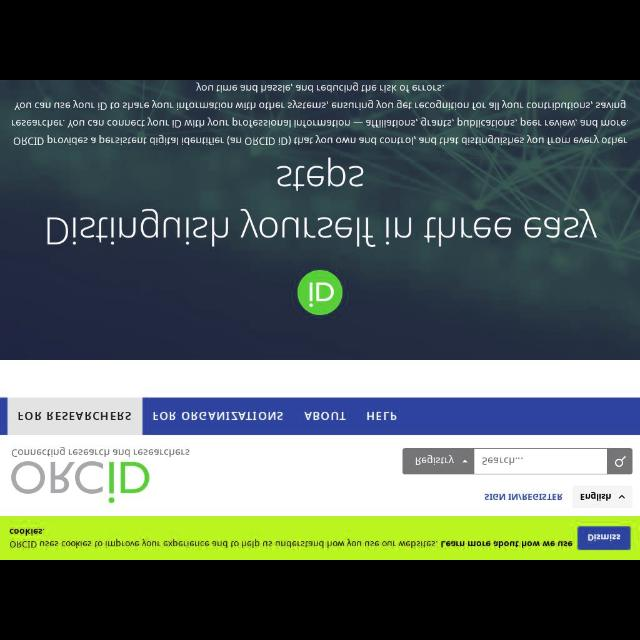backgroundimage: (1, 81, 638, 359)
icon: (613, 454, 627, 470), (618, 494, 626, 502), (461, 458, 469, 464)
image: (12, 460, 156, 506), (298, 268, 344, 318)
input: (474, 448, 630, 474)
multitab: (1, 397, 639, 438)
spinner: (404, 450, 474, 472), (570, 488, 628, 508)
text: (12, 98, 630, 148), (42, 214, 598, 253), (9, 538, 574, 550), (278, 162, 367, 188), (197, 82, 445, 90), (12, 448, 190, 458), (17, 408, 132, 422), (152, 410, 282, 420), (481, 491, 563, 502), (306, 409, 346, 421), (480, 456, 524, 466), (8, 526, 44, 536), (364, 411, 398, 421), (415, 456, 453, 464)
textbutton: (581, 528, 629, 550)
toolbar: (3, 438, 639, 516)
